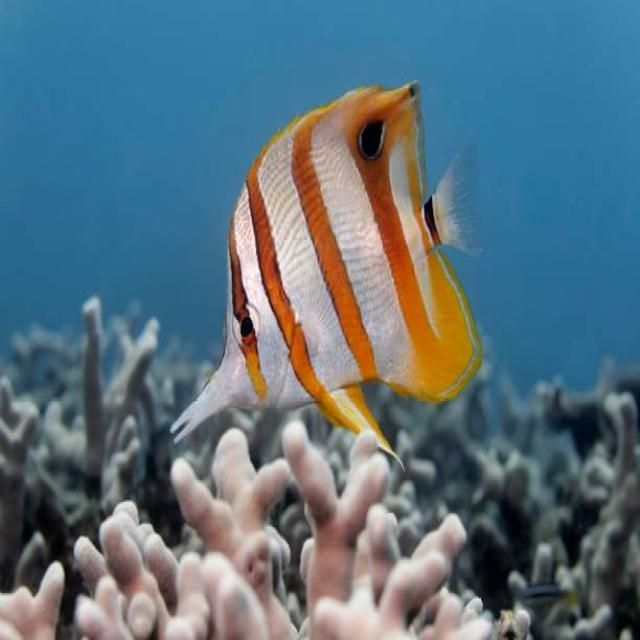ButterflyFish: (168, 78, 483, 468)
